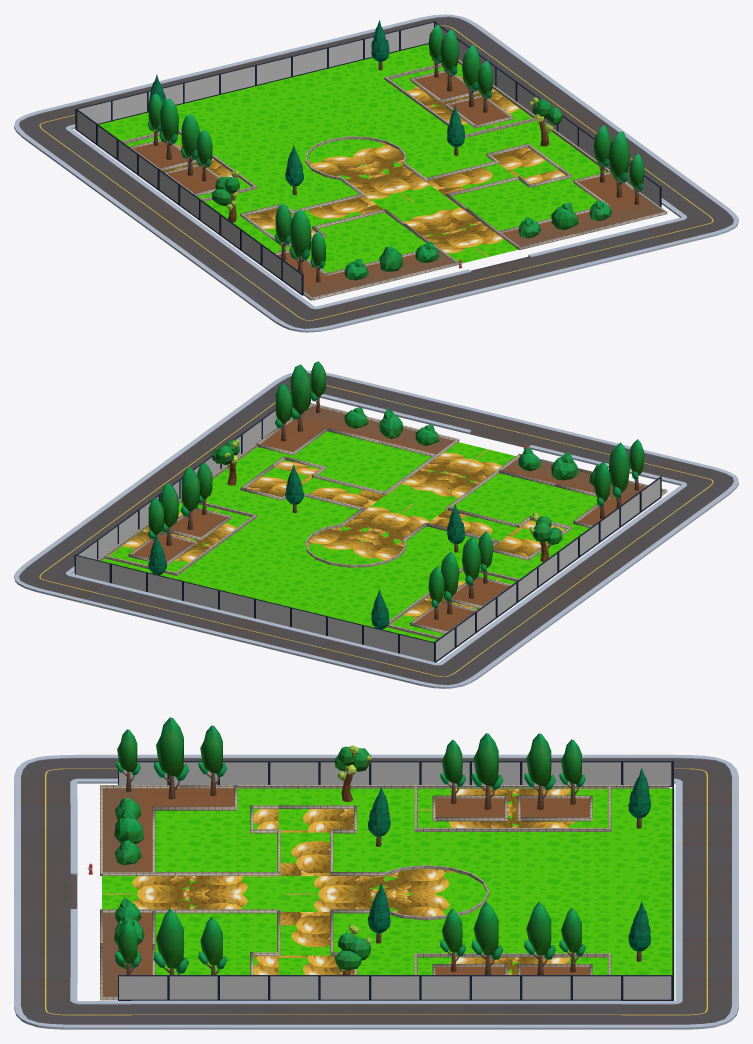
The model's file is landmap1.fbx.
3 renders of one model, top to bottom at view 1: azimuth 30°, elevation 25°; view 2: azimuth 150°, elevation 25°; view 3: azimuth 270°, elevation 25°, orthographic. The views are drawn at different scales.
Visible parts, largest first — view 1: landmap1.008, landmap1.005, landmap1.030, landmap1.029, landmap1.031, landmap1.007, landmap1, landmap1.003, landmap1.014, landmap1.023, landmap1.001, landmap1.019 (+13 smaller); view 2: landmap1.008, landmap1.005, landmap1.030, landmap1.029, landmap1.031, landmap1.003, landmap1, landmap1.007, landmap1.023, landmap1.014, landmap1.026, landmap1.001 (+11 smaller); view 3: landmap1.008, landmap1.005, landmap1.030, landmap1, landmap1.031, landmap1.003, landmap1.007, landmap1.014, landmap1.023, landmap1.019, landmap1.017, landmap1.027 (+15 smaller).
Boxes of the visible parts, left/top/right/bottom form: landmap1.008: left=99, top=44, right=606, bottom=299; landmap1.005: left=14, top=14, right=738, bottom=332; landmap1.030: left=122, top=59, right=666, bottom=300; landmap1.029: left=75, top=21, right=436, bottom=129; landmap1.031: left=76, top=109, right=303, bottom=295; landmap1.007: left=344, top=200, right=611, bottom=280; landmap1: left=434, top=21, right=667, bottom=214; landmap1.003: left=151, top=45, right=312, bottom=87; landmap1.014: left=289, top=209, right=311, bottom=273; landmap1.023: left=608, top=131, right=630, bottom=197; landmap1.001: left=211, top=170, right=239, bottom=222; landmap1.019: left=159, top=98, right=178, bottom=159; landmap1.008: left=101, top=431, right=597, bottom=641; landmap1.005: left=14, top=370, right=738, bottom=688; landmap1.030: left=97, top=403, right=667, bottom=639; landmap1.029: left=74, top=554, right=435, bottom=662; landmap1.031: left=434, top=476, right=661, bottom=662; landmap1.003: left=151, top=599, right=331, bottom=657; landmap1: left=76, top=409, right=291, bottom=559; landmap1.007: left=344, top=407, right=611, bottom=486; landmap1.023: left=290, top=364, right=311, bottom=431; landmap1.014: left=609, top=442, right=630, bottom=507; landmap1.026: left=180, top=467, right=200, bottom=529; landmap1.001: left=529, top=512, right=562, bottom=561; landmap1.008: left=102, top=788, right=674, bottom=999; landmap1.005: left=14, top=754, right=738, bottom=1029; landmap1.030: left=100, top=785, right=669, bottom=1000; landmap1: left=118, top=975, right=672, bottom=1000; landmap1.031: left=118, top=761, right=672, bottom=786; landmap1.003: left=675, top=845, right=738, bottom=938; landmap1.007: left=114, top=797, right=144, bottom=969; landmap1.014: left=153, top=717, right=188, bottom=799; landmap1.023: left=153, top=908, right=188, bottom=974; landmap1.019: left=524, top=733, right=555, bottom=809; landmap1.017: left=471, top=733, right=503, bottom=809; landmap1.027: left=524, top=901, right=555, bottom=974.
Size of what is drawn, in the model's own units: 69.51 by 10.15 by 78.06.
